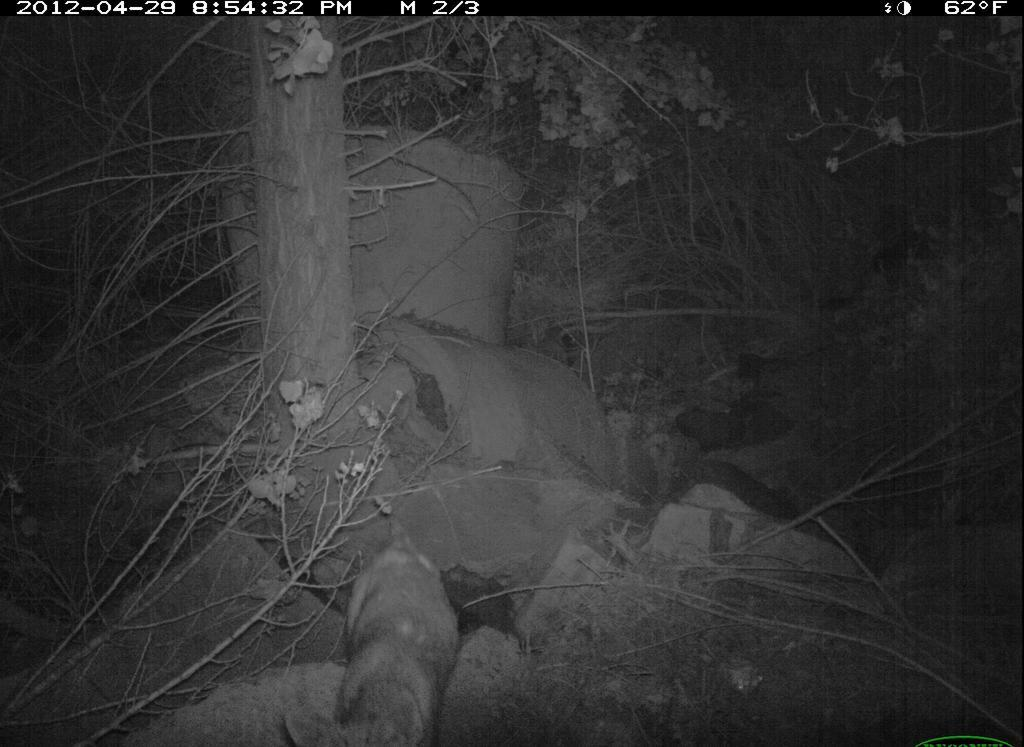coyote: (286, 516, 461, 747)
